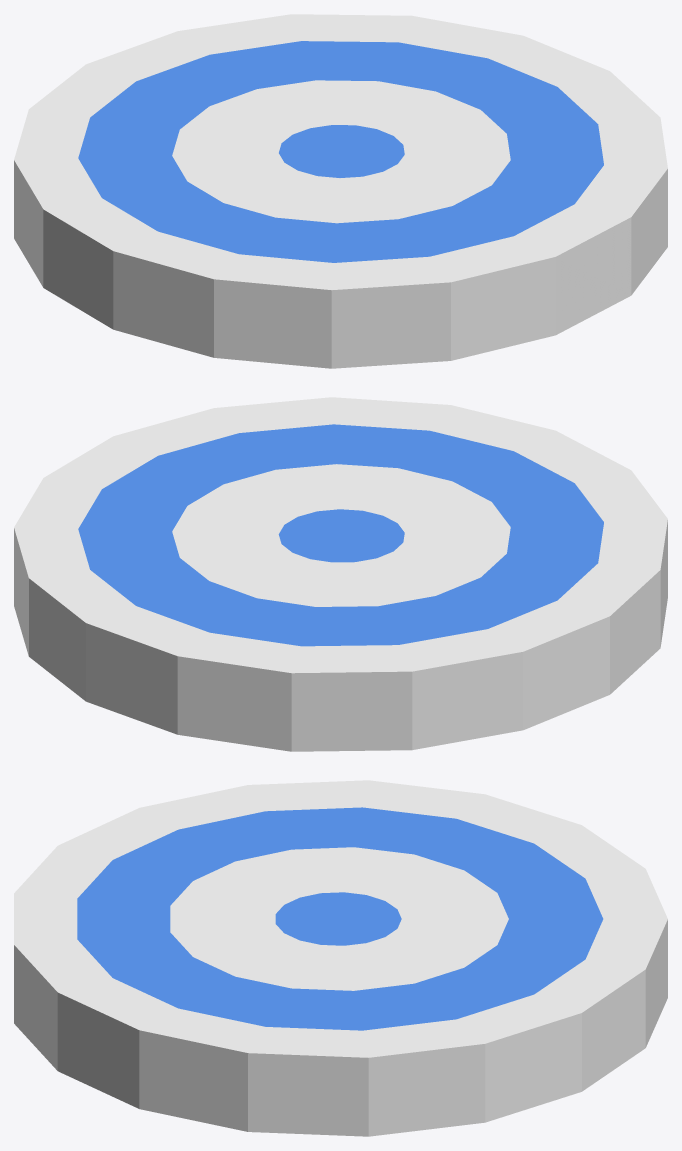
Rendered from ArcheryTargetBlue.fbx.
3 renders of one model, top to bottom at view 1: azimuth 30°, elevation 25°; view 2: azimuth 150°, elevation 25°; view 3: azimuth 270°, elevation 25°, orthographic.
Parts seen in each view (by area): view 1: ArcheryTargetBlue; view 2: ArcheryTargetBlue; view 3: ArcheryTargetBlue.
Part boxes in pixels (x1,y1,x2,y2): ArcheryTargetBlue: (14,14,667,368); ArcheryTargetBlue: (14,397,667,751); ArcheryTargetBlue: (14,780,667,1136).
Bounding box in the file's own units: 199 × 26.39 × 198.
